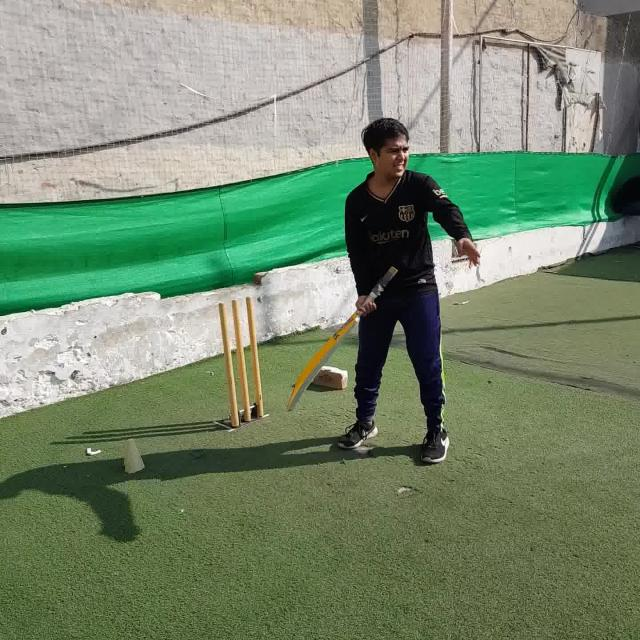bat: (287, 267, 397, 412)
